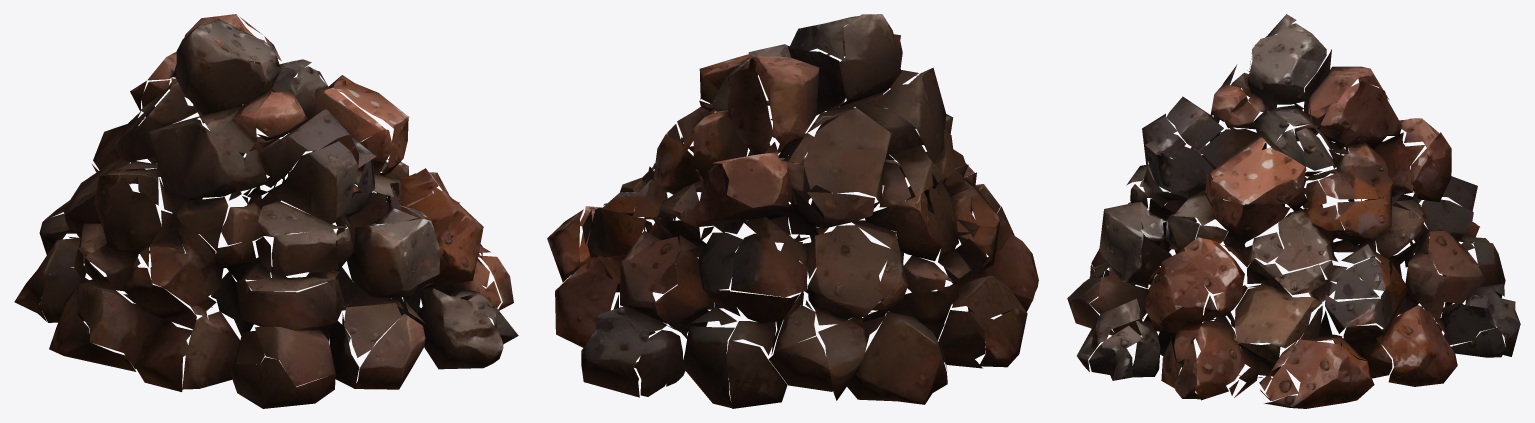
File: iron.glb
3 views of the same model, side by side, from view 1: azimuth 30°, elevation 25°; view 2: azimuth 150°, elevation 25°; view 3: azimuth 270°, elevation 25° (orthographic). The views are drawn at different scales.
Parts seen in each view (by area): view 1: tripo_node_95d68252-bc85-4f4f-9a21-8d378c4e7631; view 2: tripo_node_95d68252-bc85-4f4f-9a21-8d378c4e7631; view 3: tripo_node_95d68252-bc85-4f4f-9a21-8d378c4e7631.
Boxes of the visible parts, left/top/right/bottom form: tripo_node_95d68252-bc85-4f4f-9a21-8d378c4e7631: left=14, top=14, right=518, bottom=408; tripo_node_95d68252-bc85-4f4f-9a21-8d378c4e7631: left=547, top=14, right=1038, bottom=408; tripo_node_95d68252-bc85-4f4f-9a21-8d378c4e7631: left=1067, top=14, right=1520, bottom=408.
Size of the model in its own units: 0.9768 by 0.6774 by 0.9928.
Materials: 1 (1 with a texture image).
